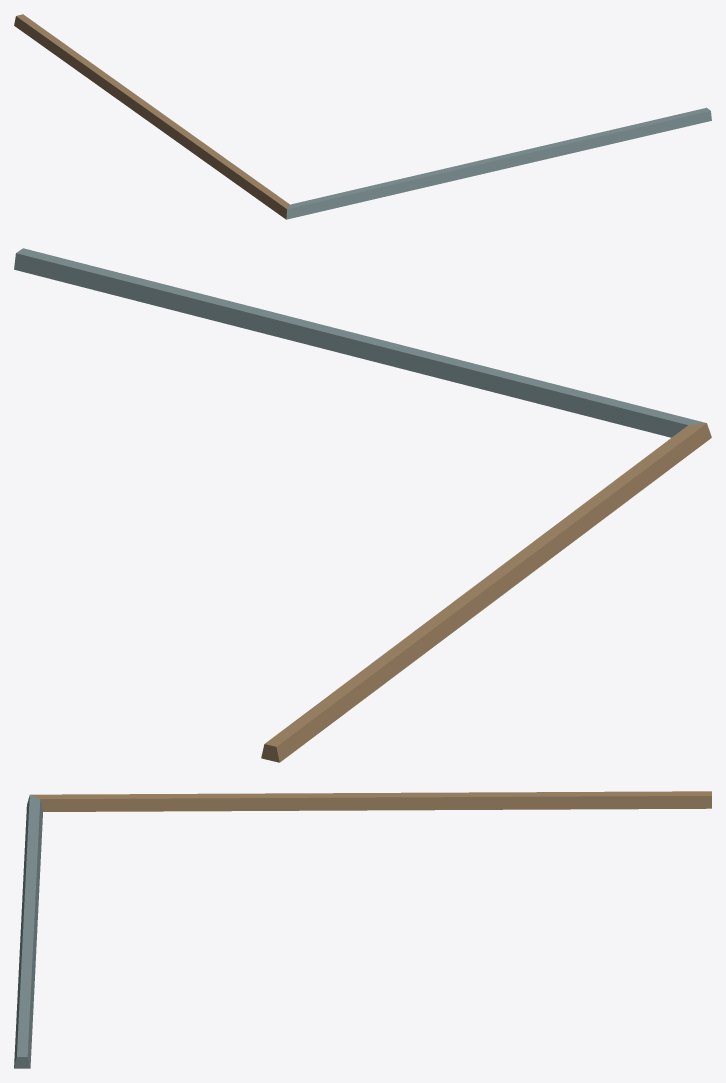
Rendered from wall-08.glb.
3 renders of one model, top to bottom at view 1: azimuth 30°, elevation 25°; view 2: azimuth 150°, elevation 25°; view 3: azimuth 270°, elevation 25°, orthographic. The views are drawn at different scales.
Visible parts, largest first — view 1: C_wall_B_08; view 2: C_wall_B_08; view 3: C_wall_B_08.
Boxes of the visible parts, x1,y1,x2,y2 form: C_wall_B_08: (14, 14, 711, 219); C_wall_B_08: (14, 248, 711, 762); C_wall_B_08: (14, 791, 711, 1068).
Size of the model in its own units: 382 by 7.83 by 422.
